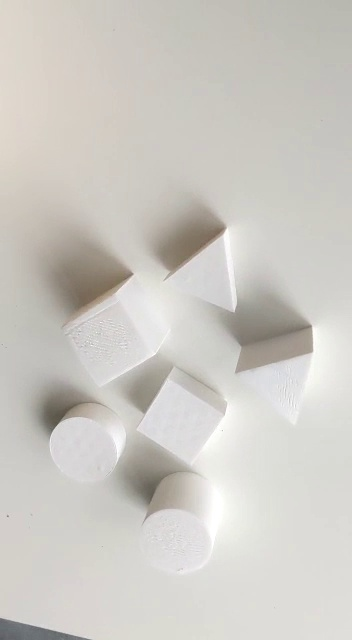Clyinder_short: (44, 400, 128, 485)
Cube: (57, 271, 173, 393)
Cube_short: (137, 365, 235, 468)
Cylinder: (136, 465, 225, 575)
Triangle: (233, 326, 320, 438)
Triangle_short: (161, 225, 242, 315)
